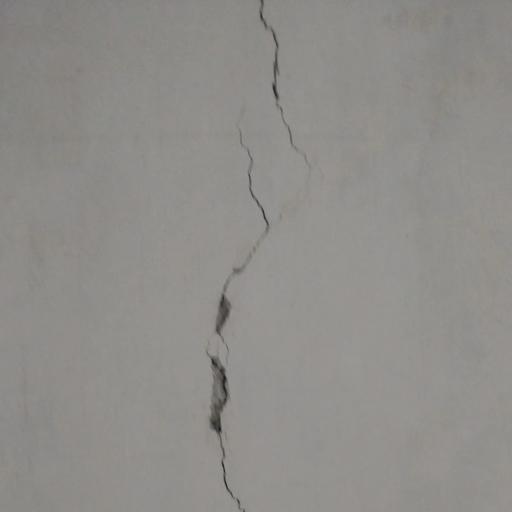minor_crack: (196, 0, 308, 512)
